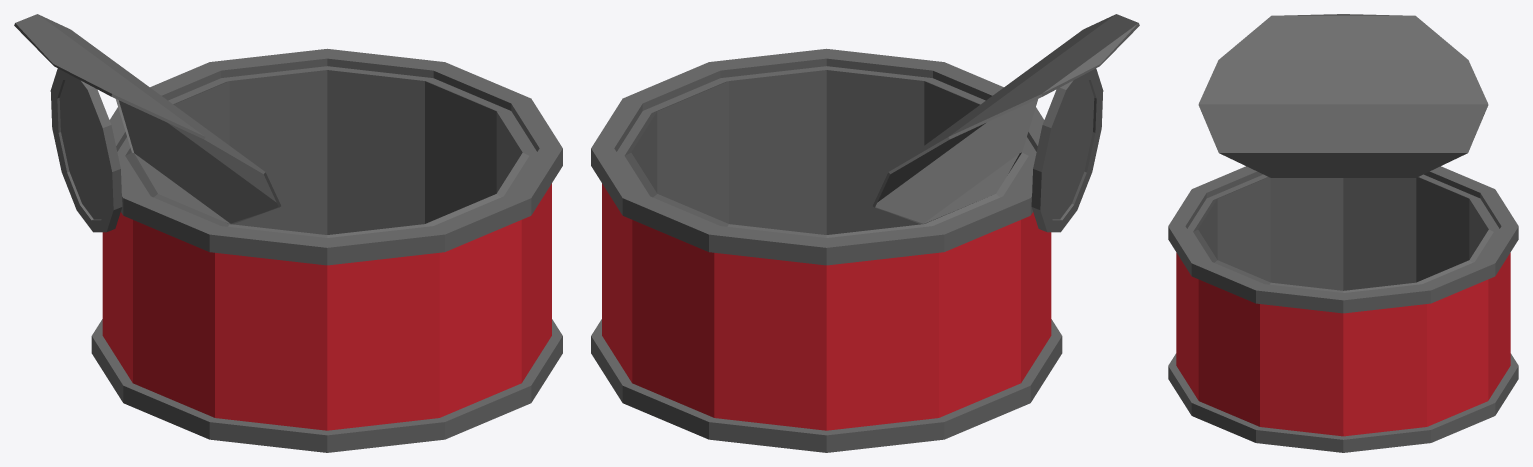
Rendered from Banka.fbx.
3 views of the same model, side by side, from view 1: azimuth 30°, elevation 25°; view 2: azimuth 150°, elevation 25°; view 3: azimuth 270°, elevation 25° (orthographic). The views are drawn at different scales.
Parts seen in each view (by area): view 1: Banka; view 2: Banka; view 3: Banka.
Part boxes in pixels (x1=…): Banka: x1=14, y1=14, x2=562, y2=452; Banka: x1=591, y1=14, x2=1139, y2=452; Banka: x1=1168, y1=14, x2=1518, y2=452.
Size of the model in its own units: 0.2494 by 0.2128 by 0.179.
